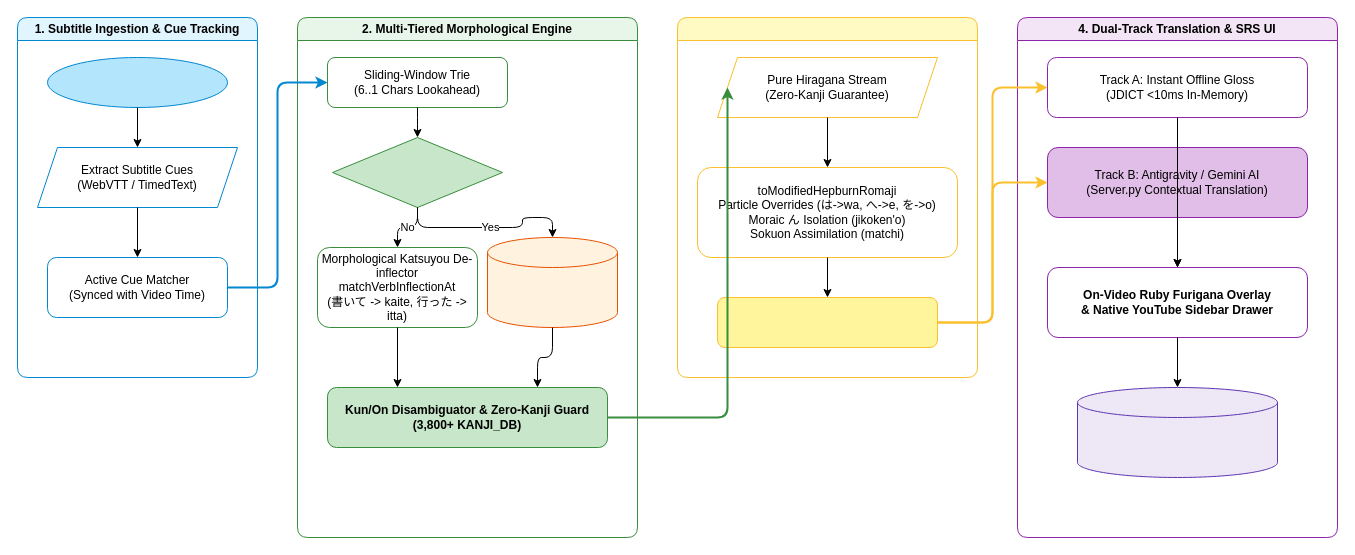
Image size: 1355x555. Some labels were removed from this diagram. The shapes that lost their labels are listed below. From the top down, each one's box as (x1, y1, x2, y2) in pixels, then its label:
(46, 56, 228, 108): YouTube Video Playback
(332, 136, 502, 208): Match in SPECIAL_WORDS?
(676, 16, 978, 378): 3. Modified Hepburn Romanization
(486, 236, 618, 328): Jukujikun Lexicon (眼鏡 -> megane 自己嫌悪 -> jikoken'o)
(716, 296, 938, 348): Resolved Phonetic Tokens { furigana, romaji }
(1076, 386, 1278, 478): AnkiConnect Integration (:8765 1-Click Flashcard Export)
